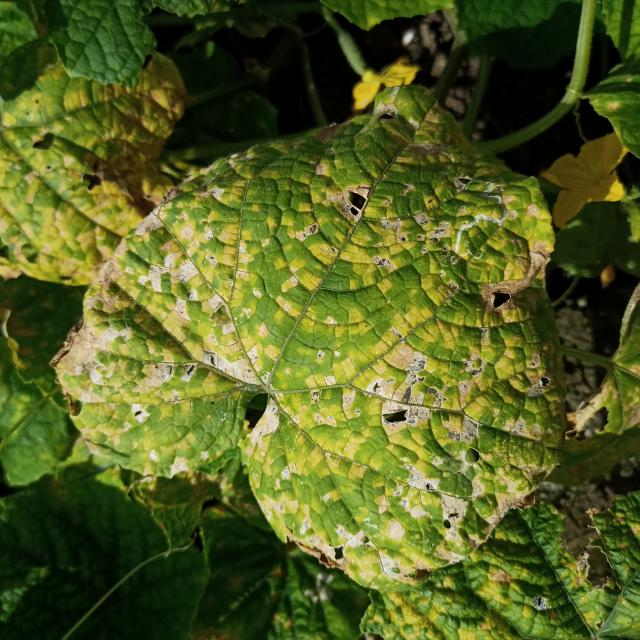disease_cucumber: (78, 101, 557, 571), (0, 45, 188, 282)
